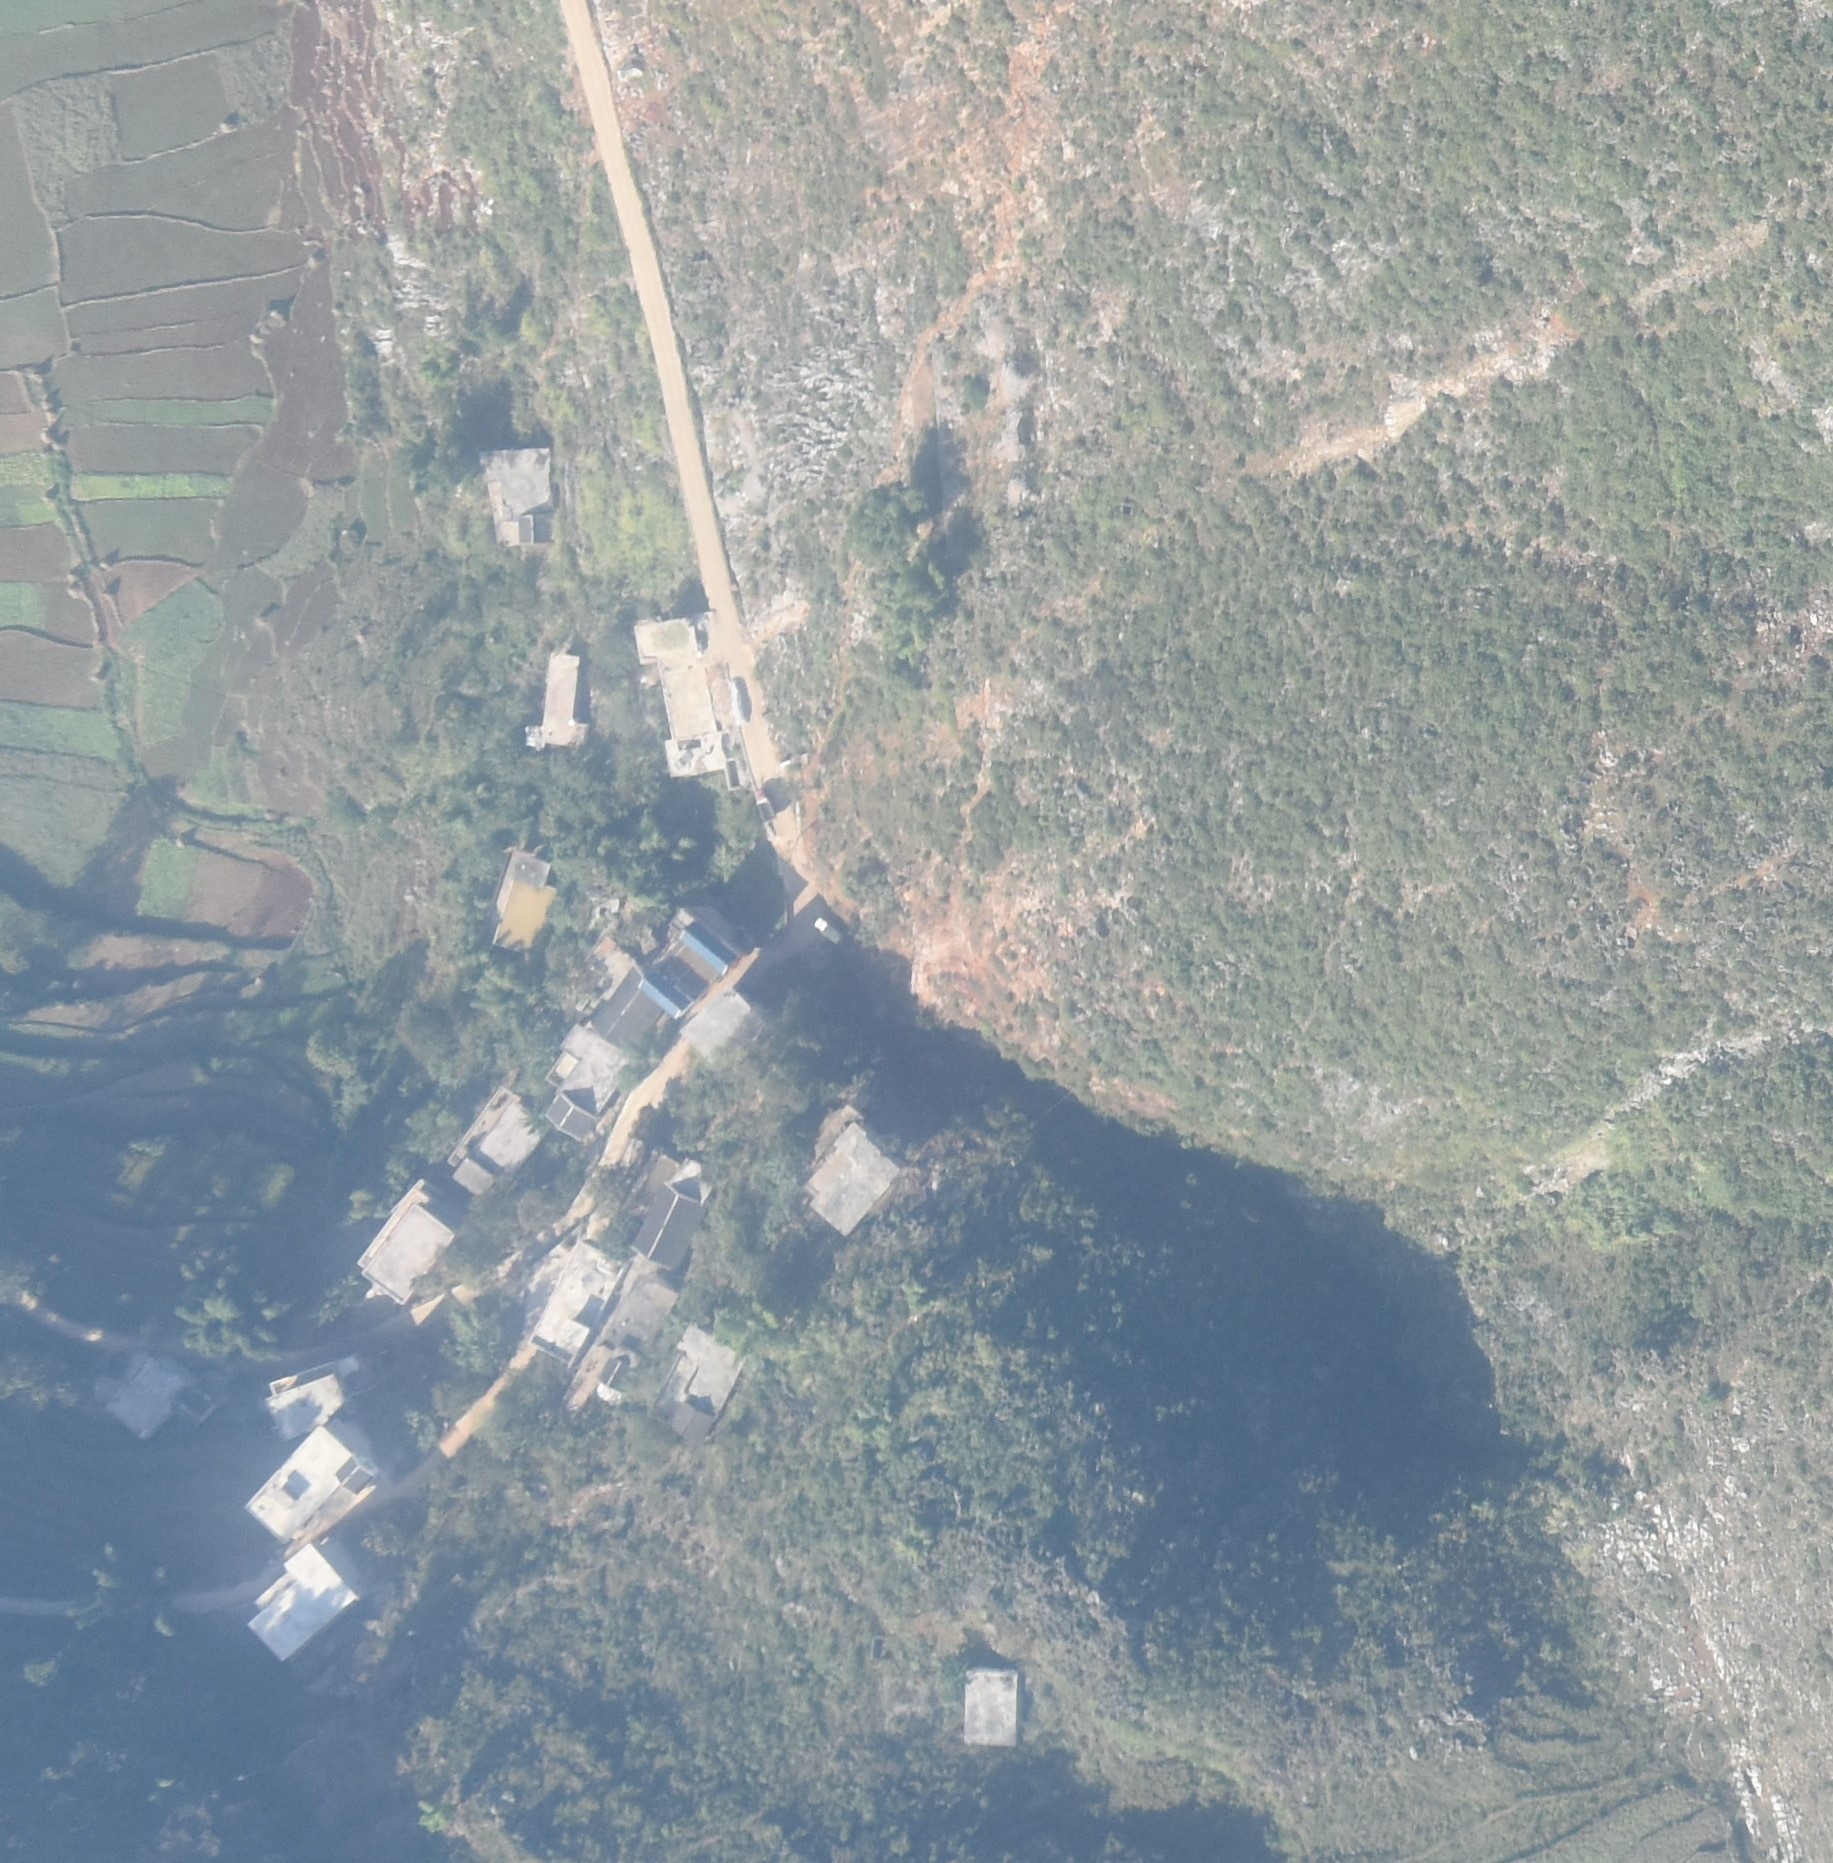building: (678, 986, 812, 1140), (244, 1426, 395, 1547), (630, 616, 730, 781), (356, 1179, 459, 1307), (248, 1545, 359, 1662), (447, 1084, 549, 1200), (533, 1242, 627, 1364), (803, 1121, 901, 1236), (656, 1322, 745, 1445), (549, 1024, 640, 1140), (105, 1358, 219, 1442), (599, 1282, 679, 1393), (265, 1353, 366, 1440), (479, 449, 557, 545), (492, 849, 563, 951), (589, 970, 672, 1053), (629, 1182, 702, 1270), (526, 653, 589, 745), (960, 1670, 1020, 1749), (679, 926, 735, 972), (636, 971, 693, 1015)
vehicle: (814, 916, 840, 945)
